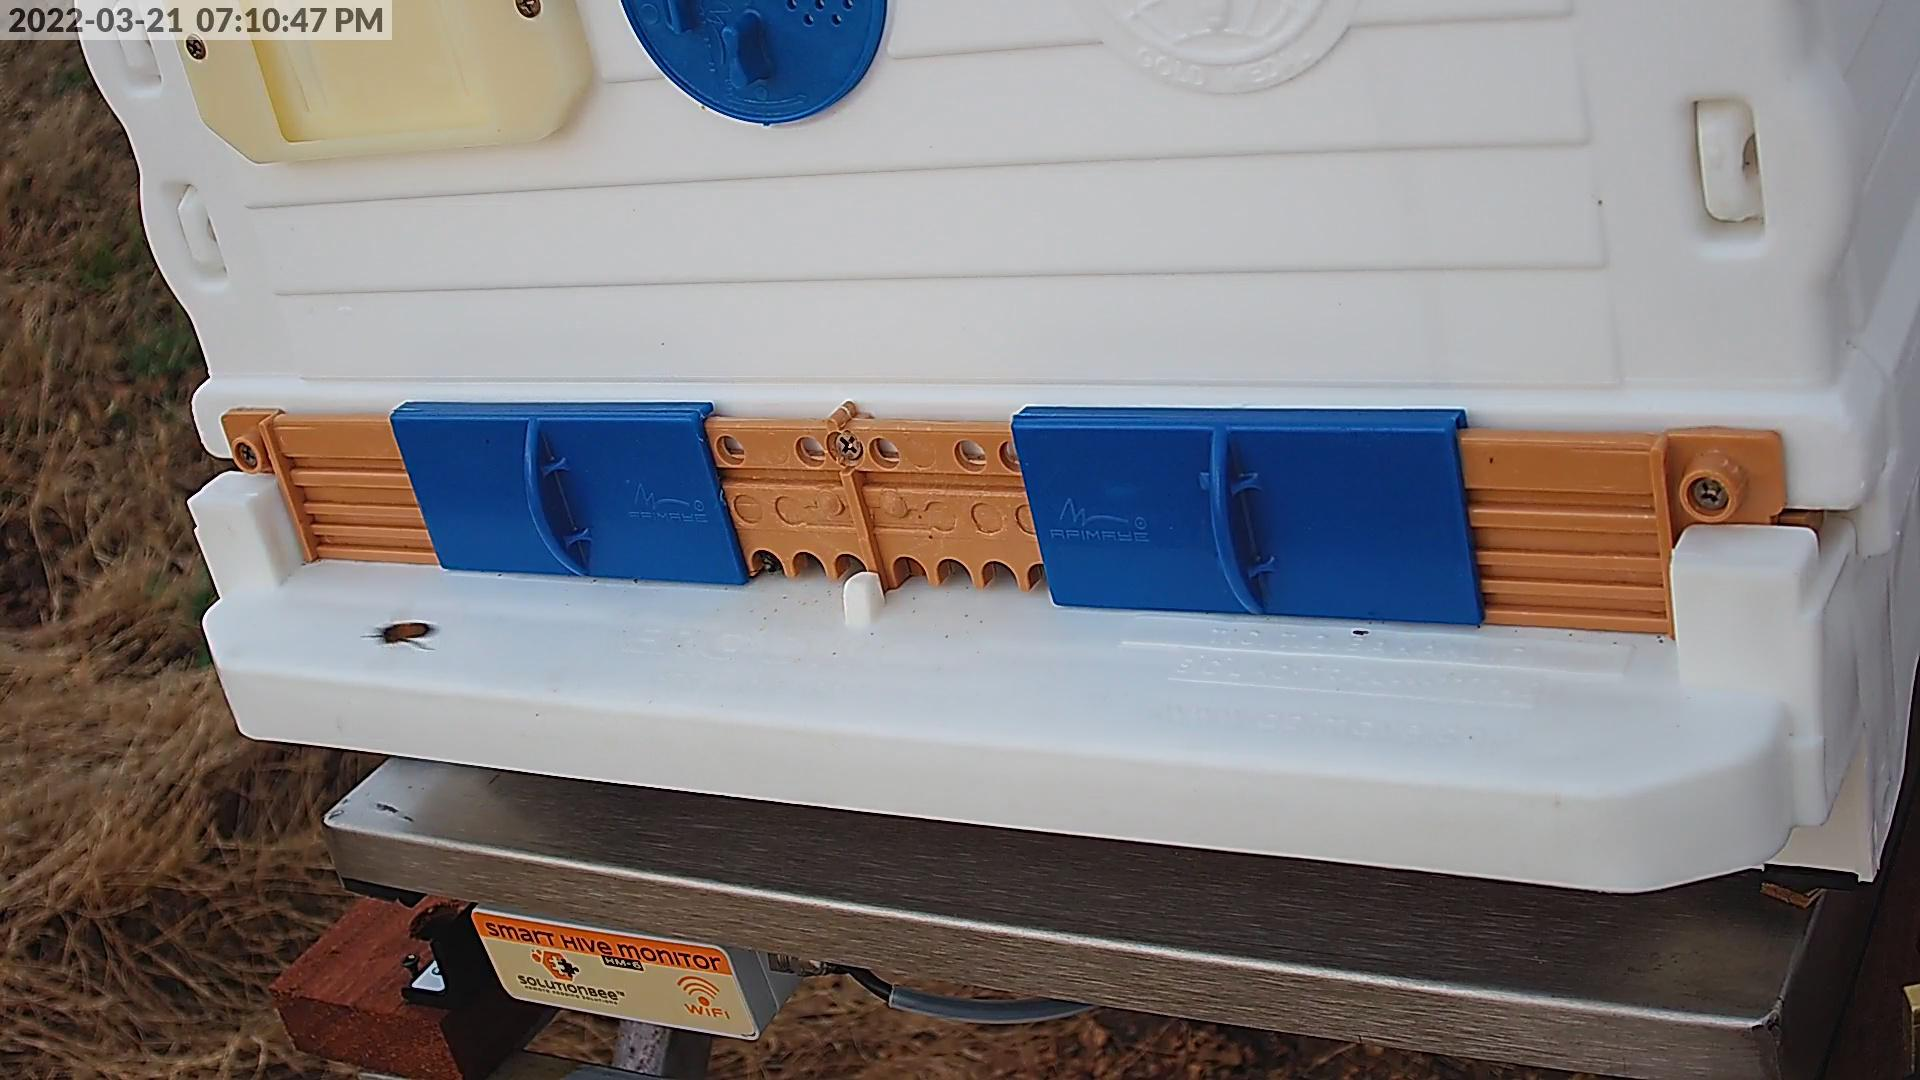bee: (381, 624, 431, 646), (761, 547, 782, 574)
